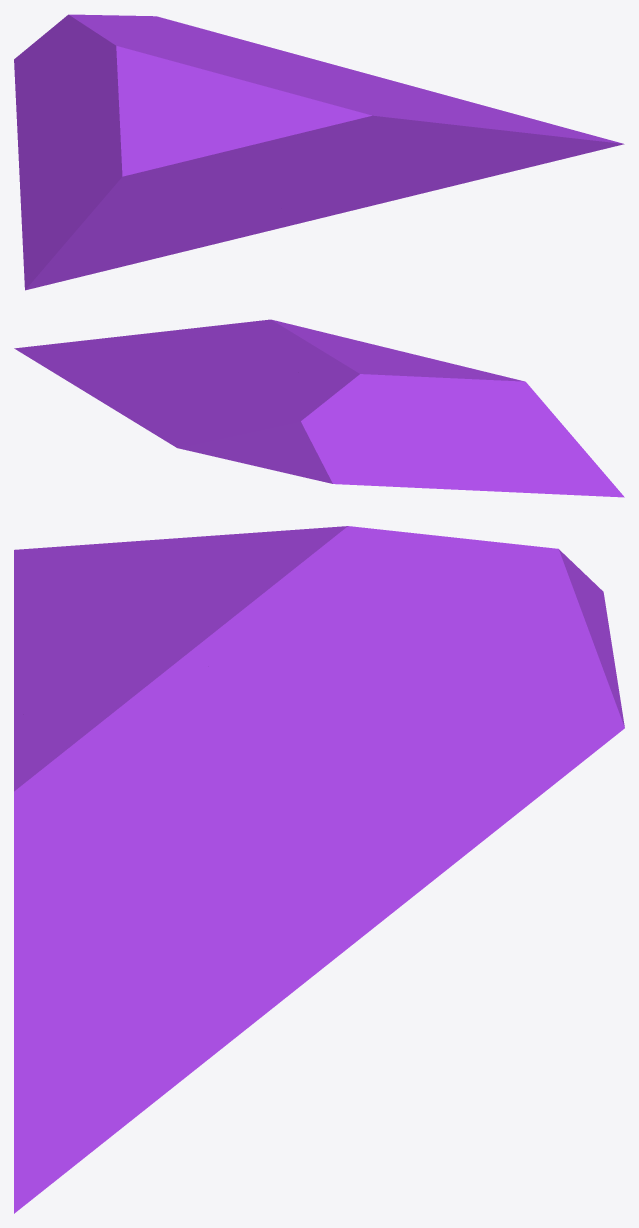
File: Window_163_4_chunks.fbx
The picture shows the model from 3 angles, top to bottom: view 1: azimuth 30°, elevation 25°; view 2: azimuth 150°, elevation 25°; view 3: azimuth 270°, elevation 25°; orthographic projection. The views are drawn at different scales.
Parts seen in each view (by area): view 1: Window_163_4_2, Window_163_4_1, Window_163_4_0, Window_163_4_3; view 2: Window_163_4_3, Window_163_4_2, Window_163_4_1, Window_163_4_0; view 3: Window_163_4_2, Window_163_4_3, Window_163_4_0.
Boxes of the visible parts, <box> form: Window_163_4_2: <box>206,38,624,226</box>; Window_163_4_1: <box>17,100,287,290</box>; Window_163_4_0: <box>82,48,295,175</box>; Window_163_4_3: <box>14,14,236,133</box>; Window_163_4_3: <box>149,372,426,488</box>; Window_163_4_2: <box>14,319,348,430</box>; Window_163_4_1: <box>413,381,624,497</box>; Window_163_4_0: <box>292,338,522,415</box>; Window_163_4_2: <box>14,653,519,1213</box>; Window_163_4_3: <box>303,526,624,811</box>; Window_163_4_0: <box>14,526,339,716</box>.
Bounding box in the file's own units: 699 × 156 × 311.
